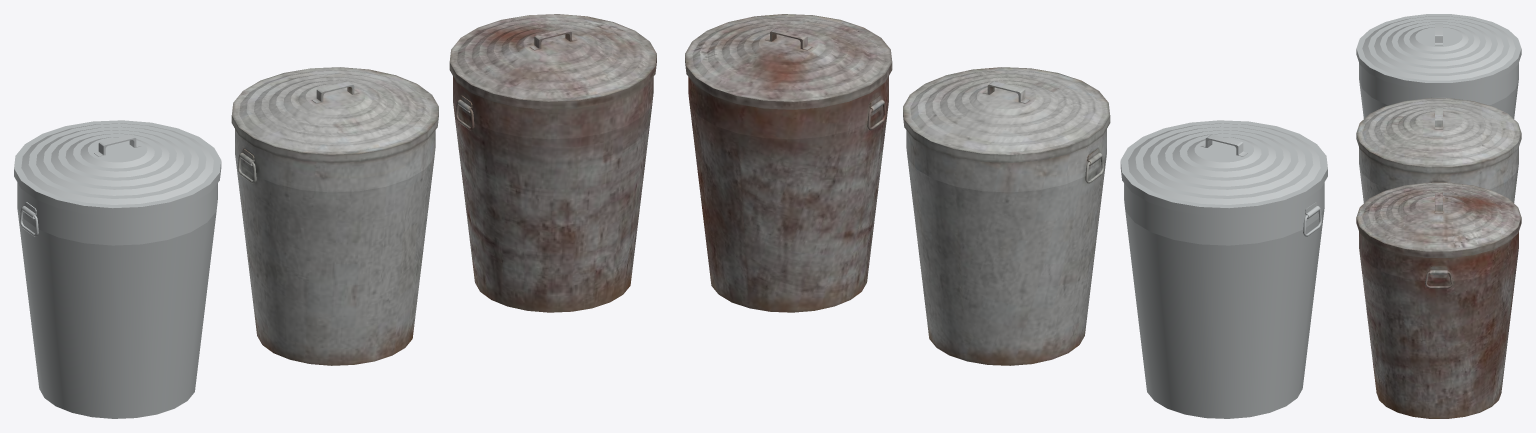
Rendered from trash_cans.glb.
The picture shows the model from 3 angles, left to right: view 1: azimuth 30°, elevation 25°; view 2: azimuth 150°, elevation 25°; view 3: azimuth 270°, elevation 25°; orthographic projection. The views are drawn at different scales.
Visible parts, largest first — view 1: Object_3, Object_2, Object_4; view 2: Object_3, Object_2, Object_4; view 3: Object_4, Object_2, Object_3.
Boxes of the visible parts, x1,y1,x2,y2 form: Object_3: (14,120,221,418); Object_2: (231,67,438,365); Object_4: (449,14,656,312); Object_3: (1120,120,1327,418); Object_2: (903,67,1110,365); Object_4: (685,14,892,312); Object_4: (1356,182,1521,418); Object_2: (1356,98,1521,202); Object_3: (1356,14,1521,118).
Bounding box in the file's own units: 3.11 × 1.19 × 0.9107.
Materials: 3 (3 with a texture image).
